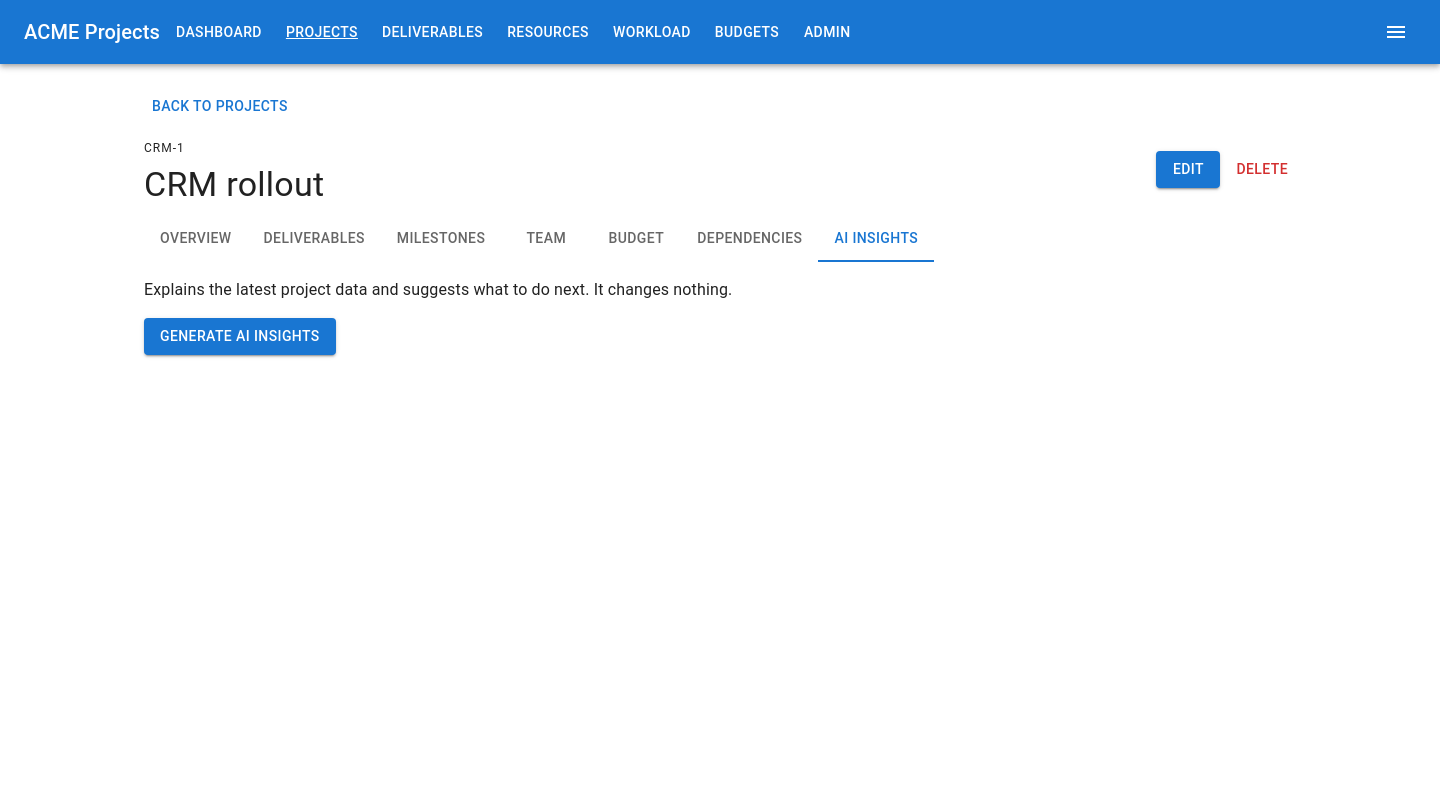
AI insights › asks only when the user does, and shows every section
What coordinates should you click on to do the following:
click the button "Generate AI Insights"
I would click on:
 (240, 337)
Its box is [144, 318, 336, 355].
(page scrolled)
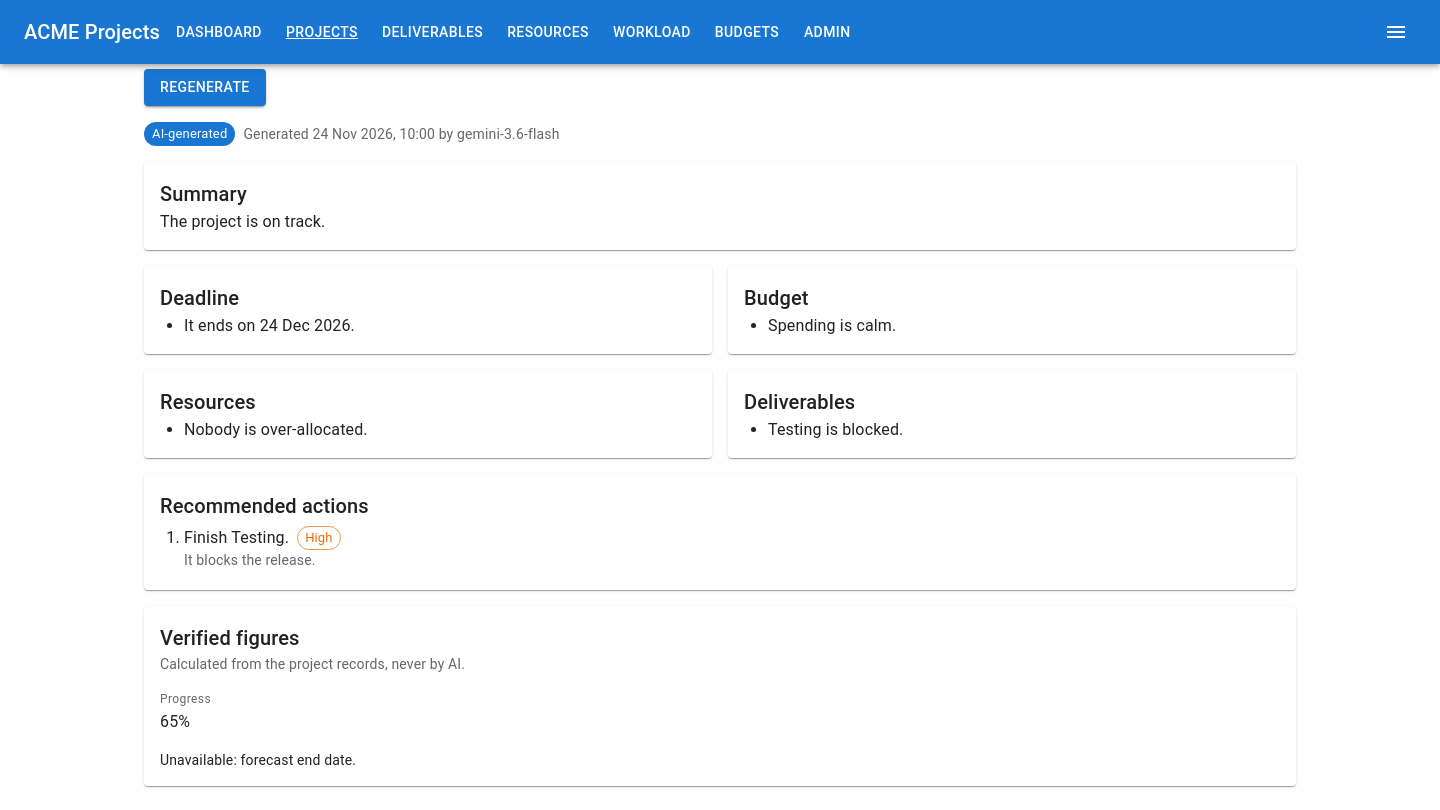
Result: the text "AI-generated" is shown at [152, 126, 227, 141]
Result: the element "Summary" is shown at [144, 162, 1296, 250]
Result: the element "Deadline" is shown at [144, 266, 712, 354]
